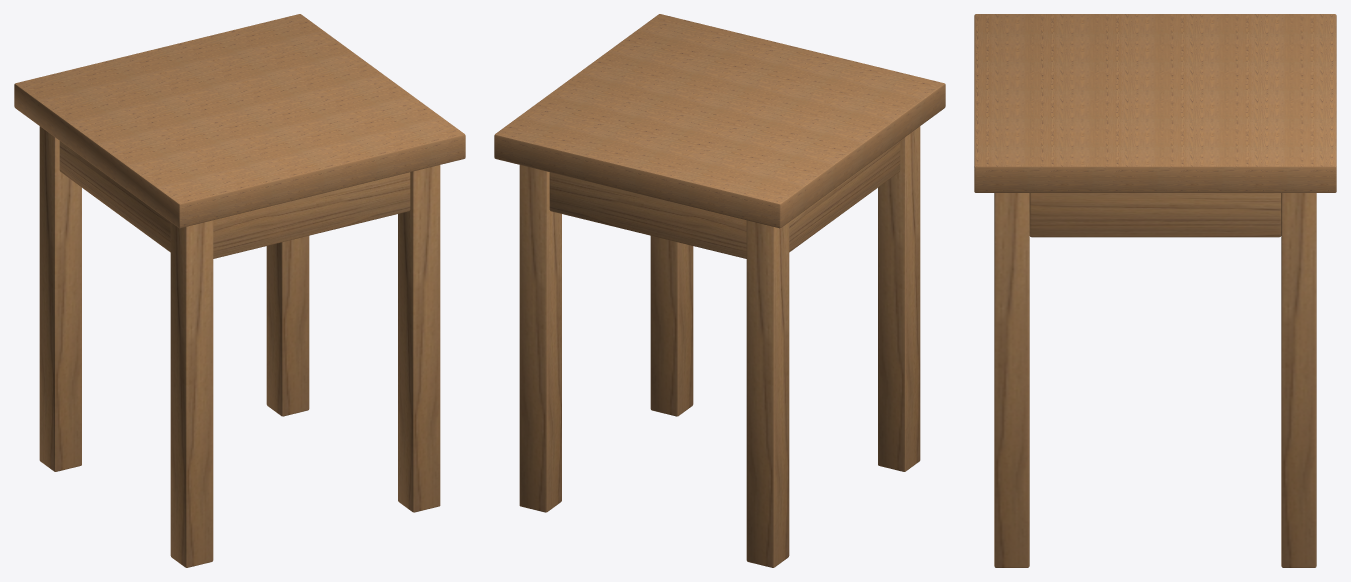
The model's file is stool_01A.glb.
The picture shows the model from 3 angles, left to right: view 1: azimuth 30°, elevation 25°; view 2: azimuth 150°, elevation 25°; view 3: azimuth 270°, elevation 25°; orthographic projection. The views are drawn at different scales.
Visible parts, largest first — view 1: Seat, Leg.001, Leg.003, Leg.002, 幕板.001, Leg, 幕板.002; view 2: Seat, Leg.002, Leg, Leg.001, 幕板, Leg.003, 幕板.002; view 3: Seat, Leg, Leg.003, 幕板.003.
Boxes of the visible parts, x1,y1,x2,y2 form: Seat: [14, 14, 465, 228]; Leg.001: [170, 220, 213, 567]; Leg.003: [398, 165, 440, 512]; Leg.002: [39, 126, 81, 471]; 幕板.001: [213, 172, 410, 258]; Leg: [266, 236, 309, 416]; 幕板.002: [59, 141, 170, 252]; Seat: [494, 14, 945, 228]; Leg.002: [746, 220, 789, 567]; Leg: [519, 165, 561, 512]; Leg.001: [878, 126, 920, 471]; 幕板: [549, 172, 746, 258]; Leg.003: [650, 236, 693, 416]; 幕板.002: [789, 141, 900, 252]; Seat: [974, 14, 1336, 192]; Leg: [1281, 193, 1316, 567]; Leg.003: [994, 193, 1029, 567]; 幕板.003: [1029, 193, 1281, 237].
Bounding box in the file's own units: 0.36 × 0.45 × 0.36.
1 material, 1 textured.
